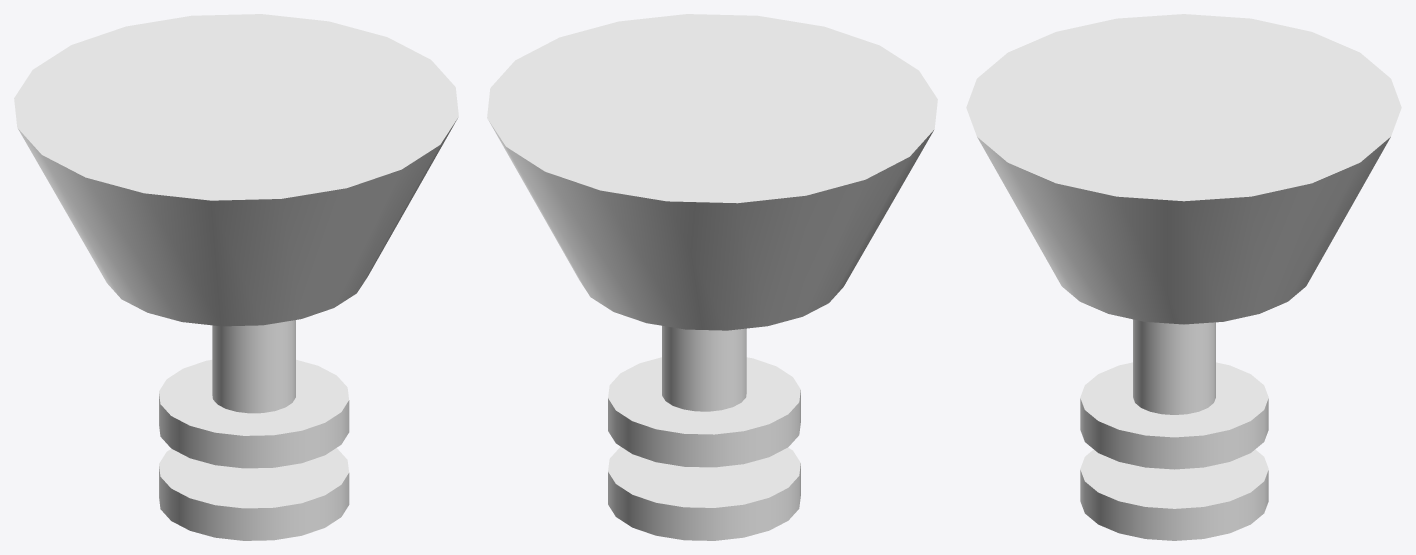
Rendered from VentiladorEstructura.obj.
3 views of the same model, side by side, from view 1: azimuth 30°, elevation 25°; view 2: azimuth 150°, elevation 25°; view 3: azimuth 270°, elevation 25° (orthographic). The views are drawn at different scales.
Parts seen in each view (by area): view 1: polySurface5 pCone3; view 2: polySurface5 pCone3; view 3: polySurface5 pCone3.
Boxes of the visible parts, <box> form: polySurface5 pCone3: <box>14,14,458,540</box>; polySurface5 pCone3: <box>487,14,937,540</box>; polySurface5 pCone3: <box>966,14,1401,540</box>.
Bounding box in the file's own units: 1.41 × 1.36 × 1.39.
